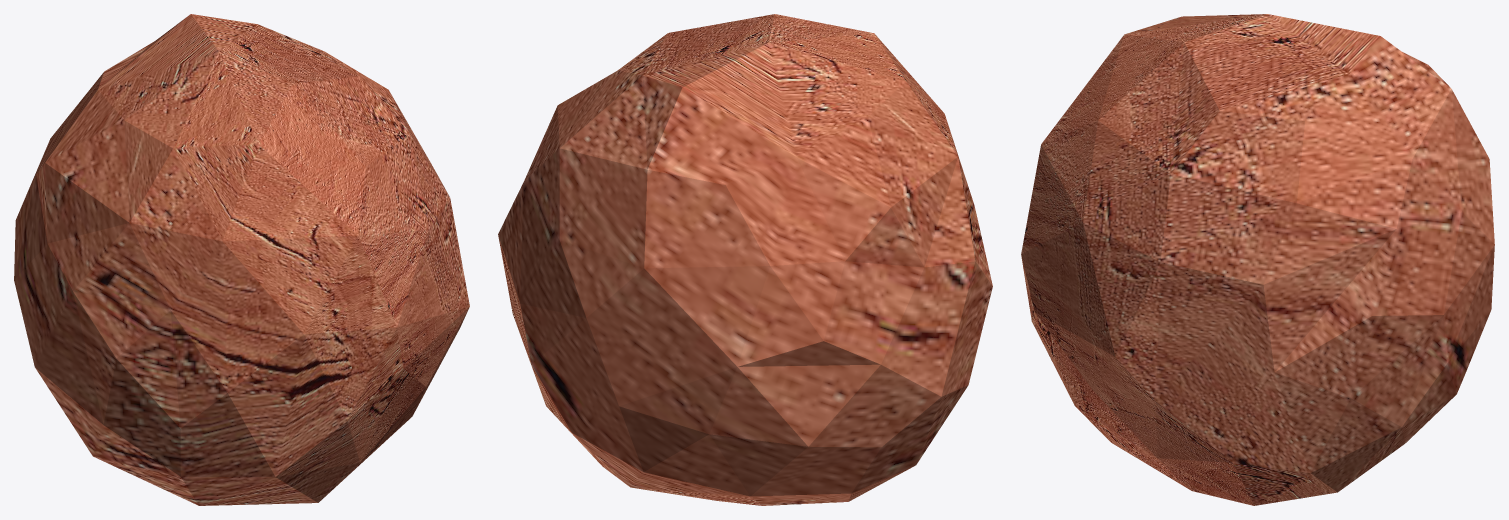
File: argileRock.obj
3 views of the same model, side by side, from view 1: azimuth 30°, elevation 25°; view 2: azimuth 150°, elevation 25°; view 3: azimuth 270°, elevation 25° (orthographic). The views are drawn at different scales.
Visible parts, largest first — view 1: rock.001; view 2: rock.001; view 3: rock.001.
Part boxes in pixels (x1,y1,x2,y2): rock.001: [14, 14, 469, 505]; rock.001: [498, 14, 992, 505]; rock.001: [1021, 14, 1494, 505].
Size of the model in its own units: 2.41 by 2.63 by 2.5.
Materials: 1 (1 with a texture image).
